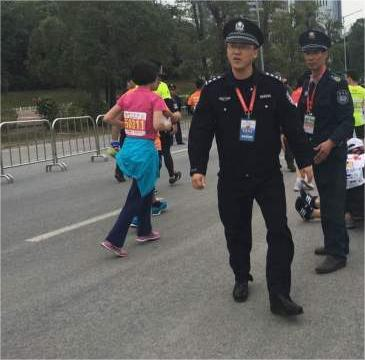up: (184, 14, 301, 319), (293, 25, 356, 279), (96, 59, 171, 258)
